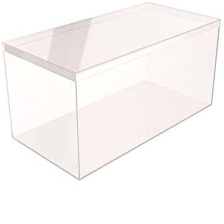plastic_box: (0, 0, 224, 184)
